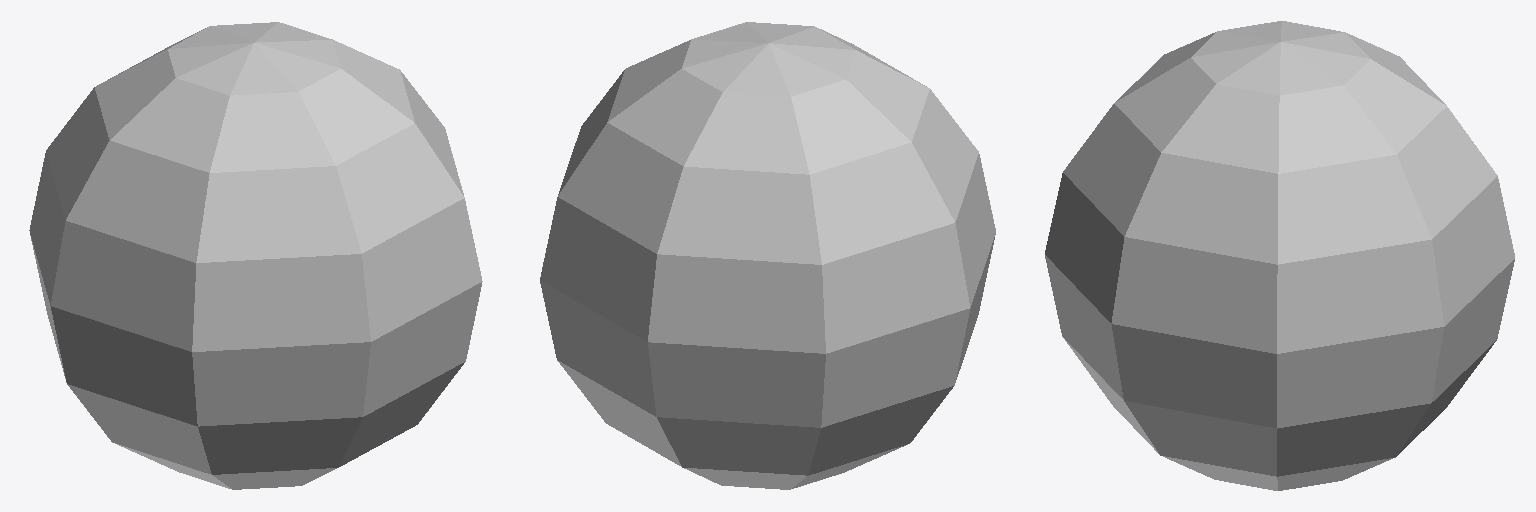
File: stone.obj
3 views of the same model, side by side, from view 1: azimuth 30°, elevation 25°; view 2: azimuth 150°, elevation 25°; view 3: azimuth 270°, elevation 25° (orthographic).
Parts seen in each view (by area): view 1: Plane_Plane.003; view 2: Plane_Plane.003; view 3: Plane_Plane.003.
Part boxes in pixels (bbox=[...]): Plane_Plane.003: bbox=[29, 22, 482, 489]; Plane_Plane.003: bbox=[540, 22, 995, 489]; Plane_Plane.003: bbox=[1045, 21, 1514, 490].
Size of the model in its own units: 2.2 by 2.2 by 2.2.